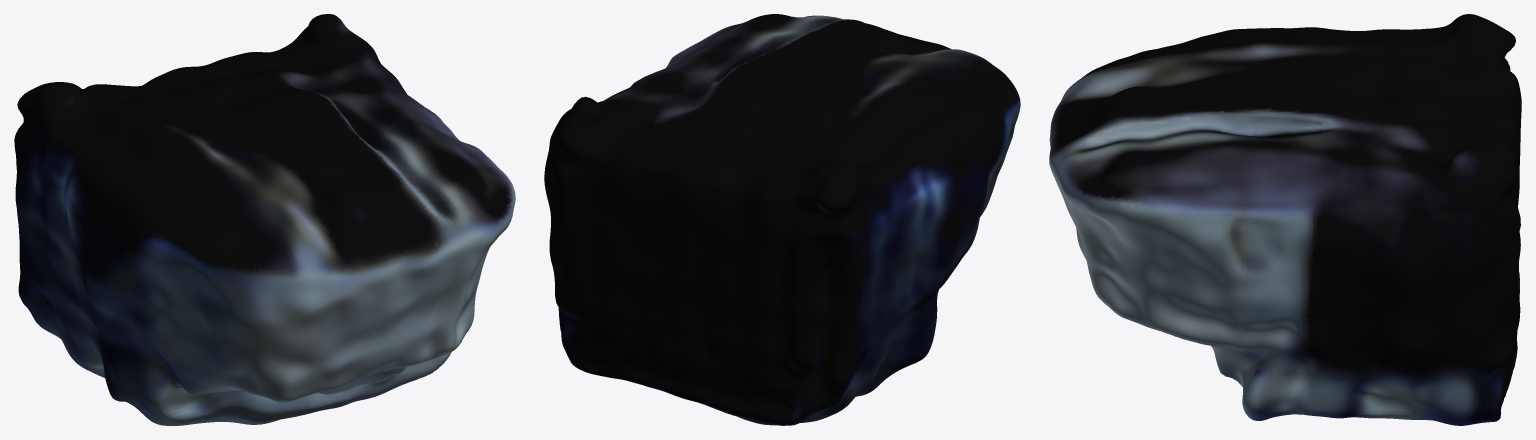
The model's file is backpack.glb.
3 renders of one model, left to right at view 1: azimuth 30°, elevation 25°; view 2: azimuth 150°, elevation 25°; view 3: azimuth 270°, elevation 25°, orthographic. The views are drawn at different scales.
Size of the model in its own units: 0.922 by 0.7368 by 0.9995.
